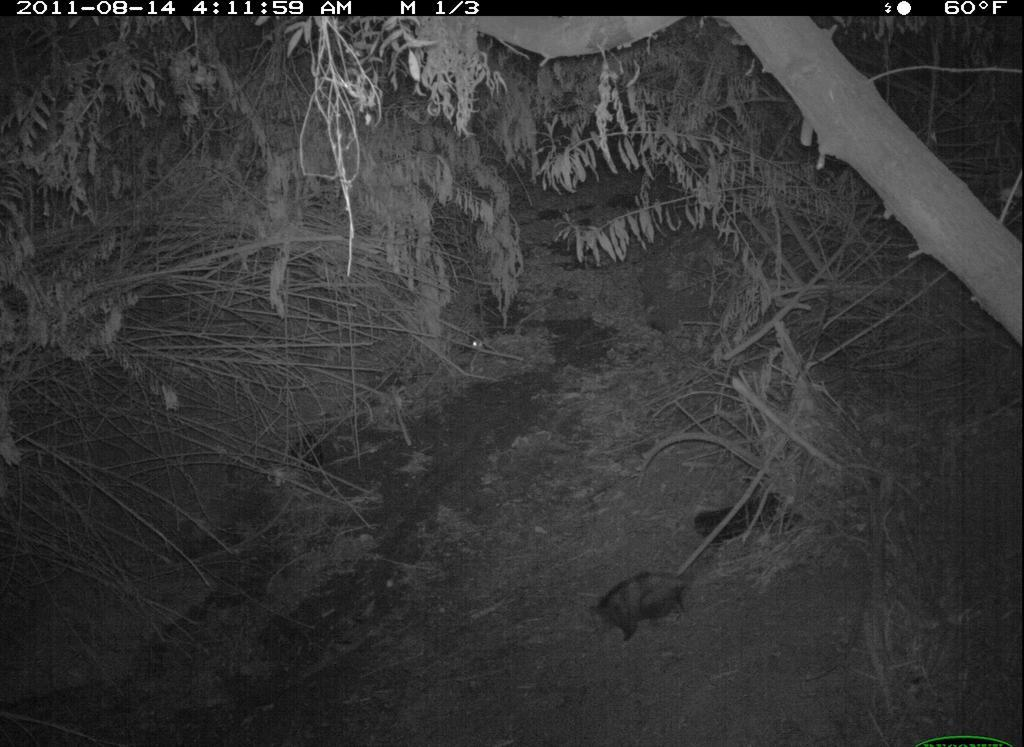opossum: (578, 527, 738, 679)
